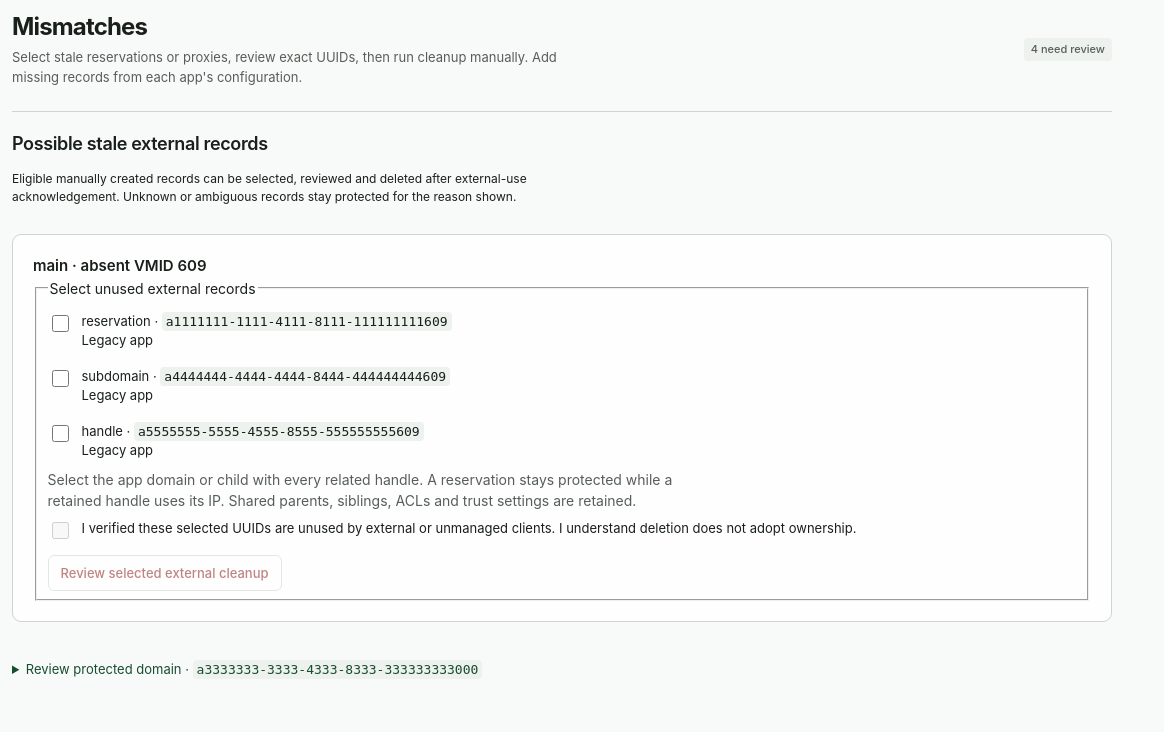
Test: withdraws external acknowledgement when selected UUIDs change
Click the checkbox labelled "reservation · a1111111-1111-4111-8111-111111111609Legacy app": (60, 323) [52, 315, 68, 332]
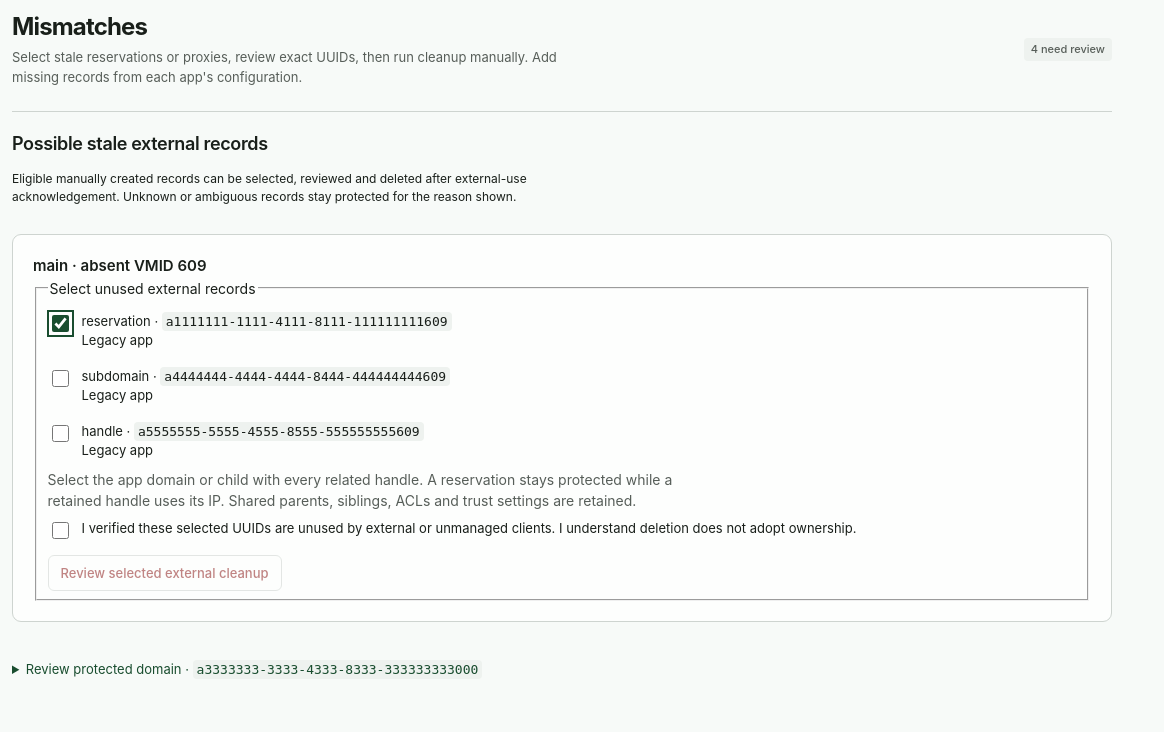
Click the checkbox labelled "subdomain · a4444444-4444-4444-8444-444444444609Legacy app": (60, 378) [52, 370, 68, 387]
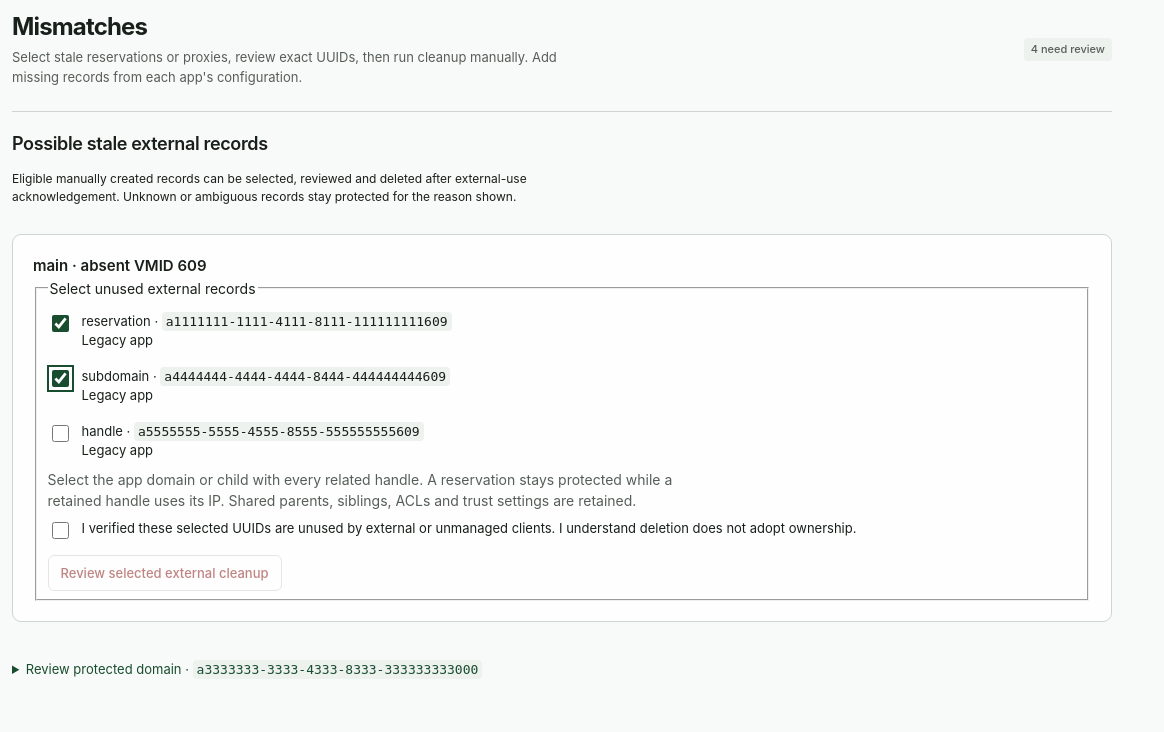
Click the checkbox labelled "handle · a5555555-5555-4555-8555-555555555609Legacy app": (60, 433) [52, 425, 68, 442]
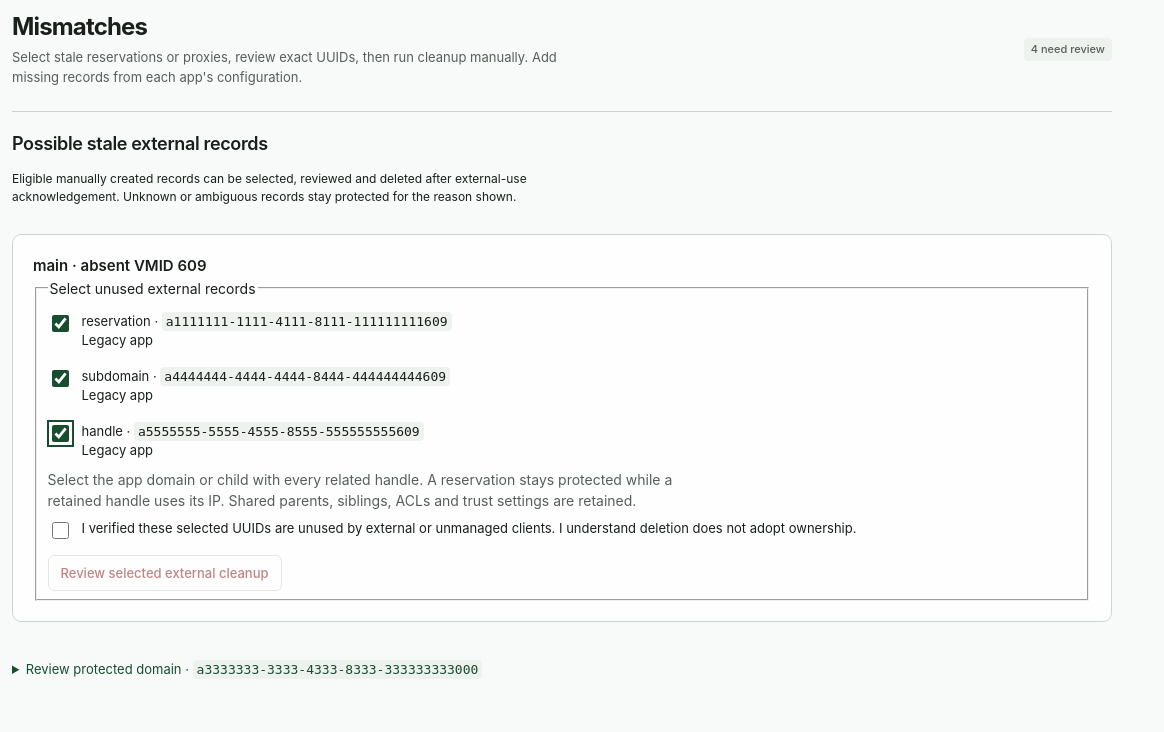
Click the checkbox labelled "I verified these selected UUIDs are unused": (60, 530) [52, 522, 68, 539]
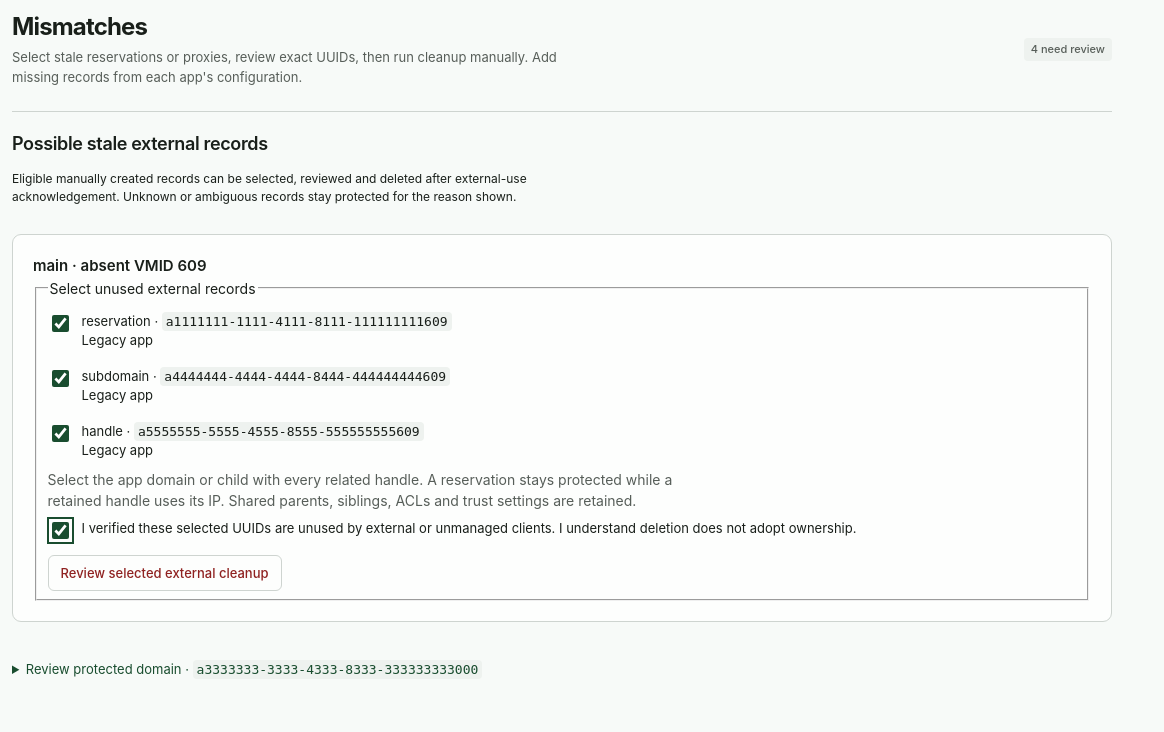
Click the checkbox labelled "handle · a5555555-5555-4555-8555-555555555609Legacy app": (60, 433) [52, 425, 68, 442]
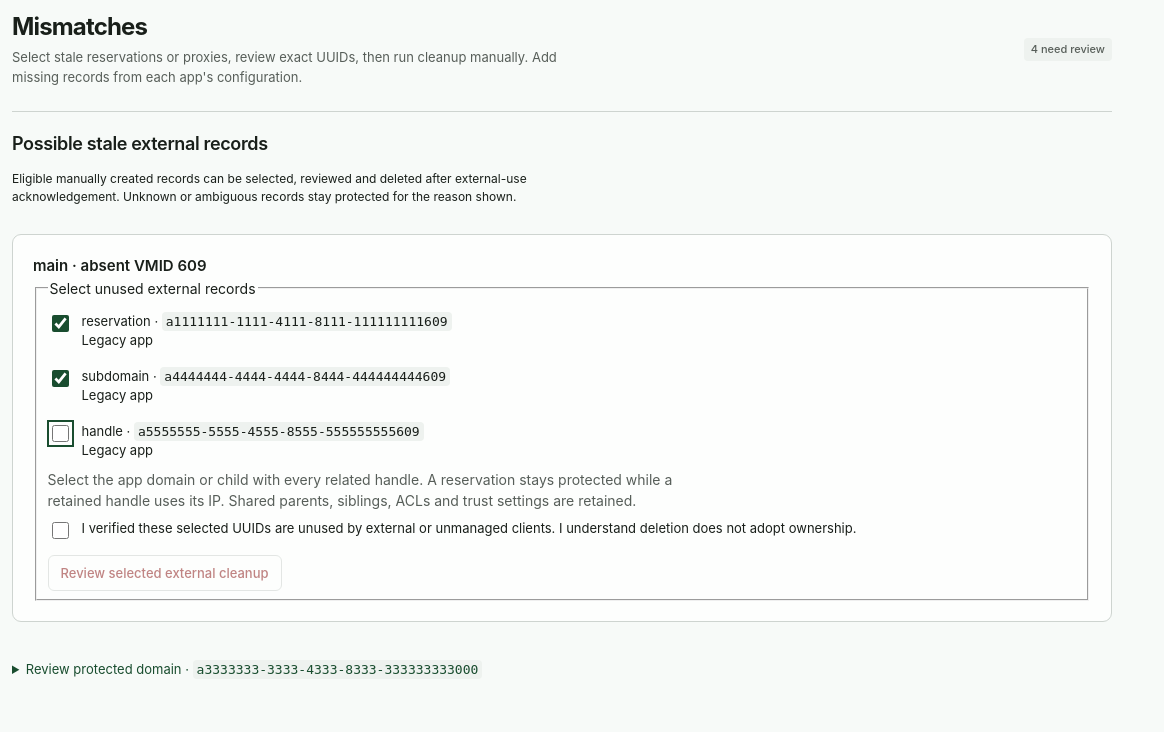
Expected: the checkbox labelled "I verified these selected UUIDs are unused" is not checked, [52, 522, 68, 539]
Expected: the button "Review selected external cleanup" is disabled, [48, 555, 282, 591]
